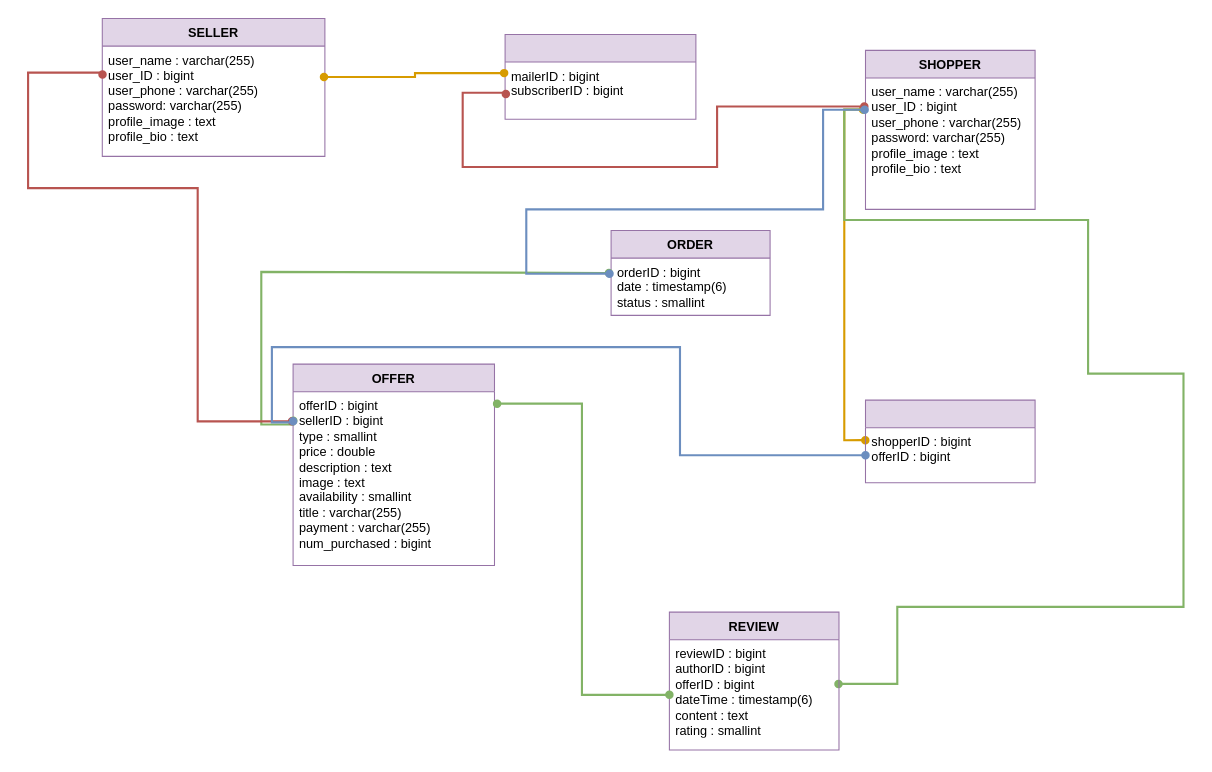
Some shapes in this 1212 by 772 pixel diagram are drawn without their labels. The box of each missing label's shape, as (x1, y1, x2, y2) in pixels:
MAILING_LIST: (504, 33, 696, 119)
WISHLIST: (864, 399, 1035, 483)
